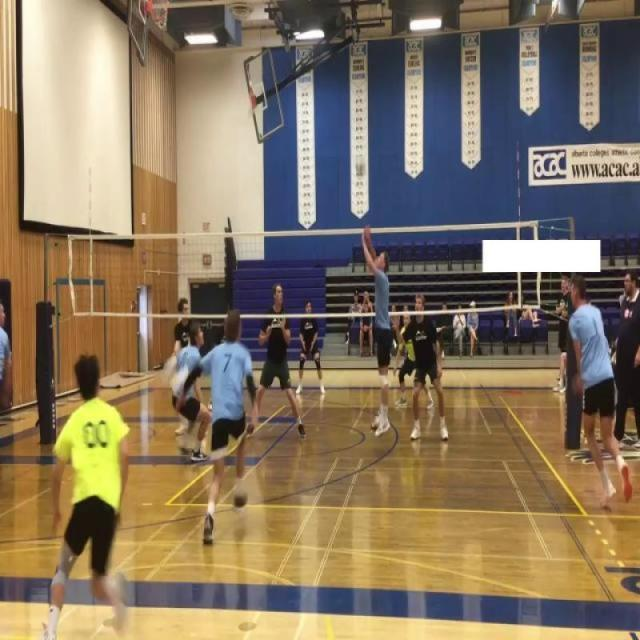volleyball: (355, 156, 366, 177)
